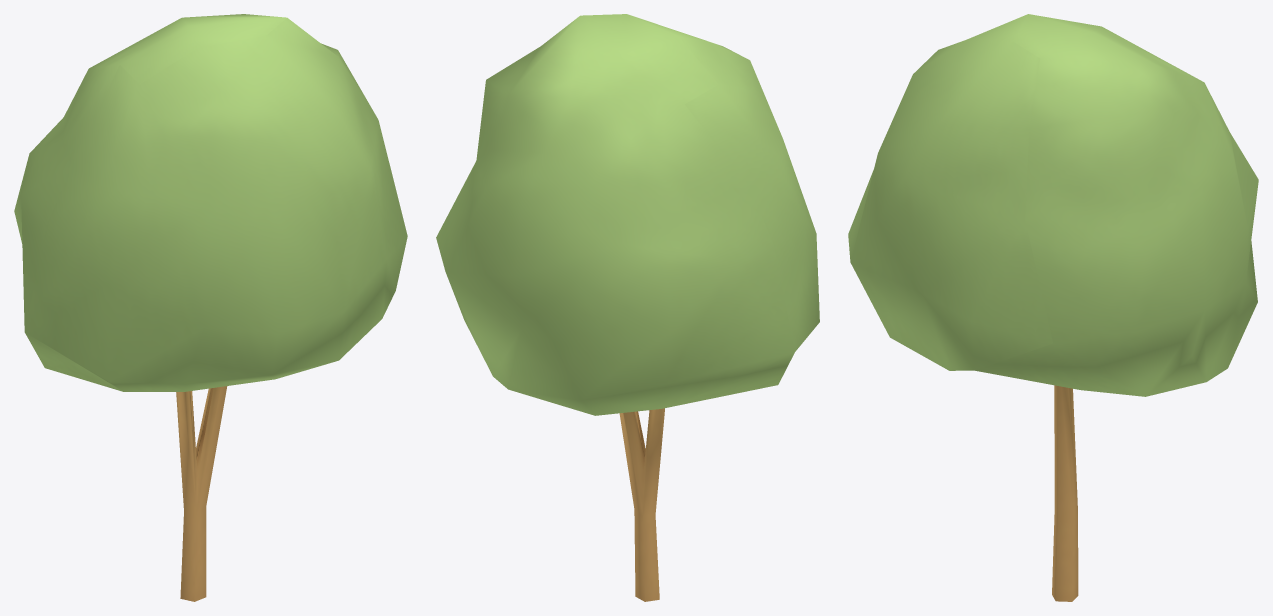
The picture shows the model from 3 angles, left to right: view 1: azimuth 30°, elevation 25°; view 2: azimuth 150°, elevation 25°; view 3: azimuth 270°, elevation 25°; orthographic projection. The views are drawn at different scales.
Visible parts, largest first — view 1: Plod.001; view 2: Plod.001; view 3: Plod.001.
Boxes of the visible parts, left/top/right/bottom form: Plod.001: left=14, top=14, right=407, bottom=601; Plod.001: left=436, top=14, right=819, bottom=601; Plod.001: left=848, top=14, right=1258, bottom=601.
Size of the model in its own units: 12.93 by 19.73 by 12.67.
1 material, 1 textured.
